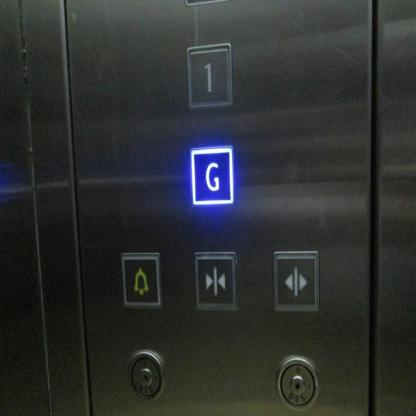1: (186, 43, 232, 110)
G: (191, 144, 235, 204)
alarm: (117, 250, 162, 310)
close: (193, 252, 238, 313)
keyhole: (276, 354, 320, 414), (127, 348, 166, 402)
open: (271, 250, 318, 312)
